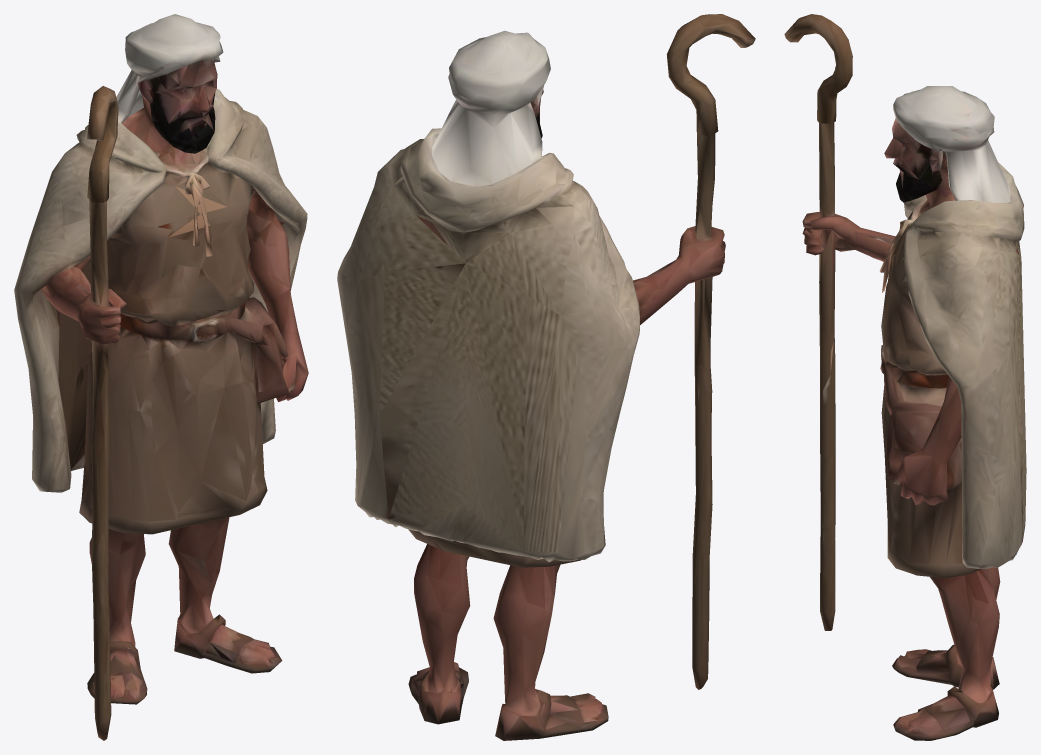
File: c_pastore.glb
3 renders of one model, left to right at view 1: azimuth 30°, elevation 25°; view 2: azimuth 150°, elevation 25°; view 3: azimuth 270°, elevation 25°, orthographic. The views are drawn at different scales.
Parts seen in each view (by area): view 1: geometry_0; view 2: geometry_0; view 3: geometry_0.
Boxes of the visible parts, x1,y1,x2,y2 form: geometry_0: (14,14,308,740); geometry_0: (337,14,755,740); geometry_0: (784,14,1026,740).
Bounding box in the file's own units: 0.8399 × 1.72 × 0.6079.
Materials: 1 (1 with a texture image).
